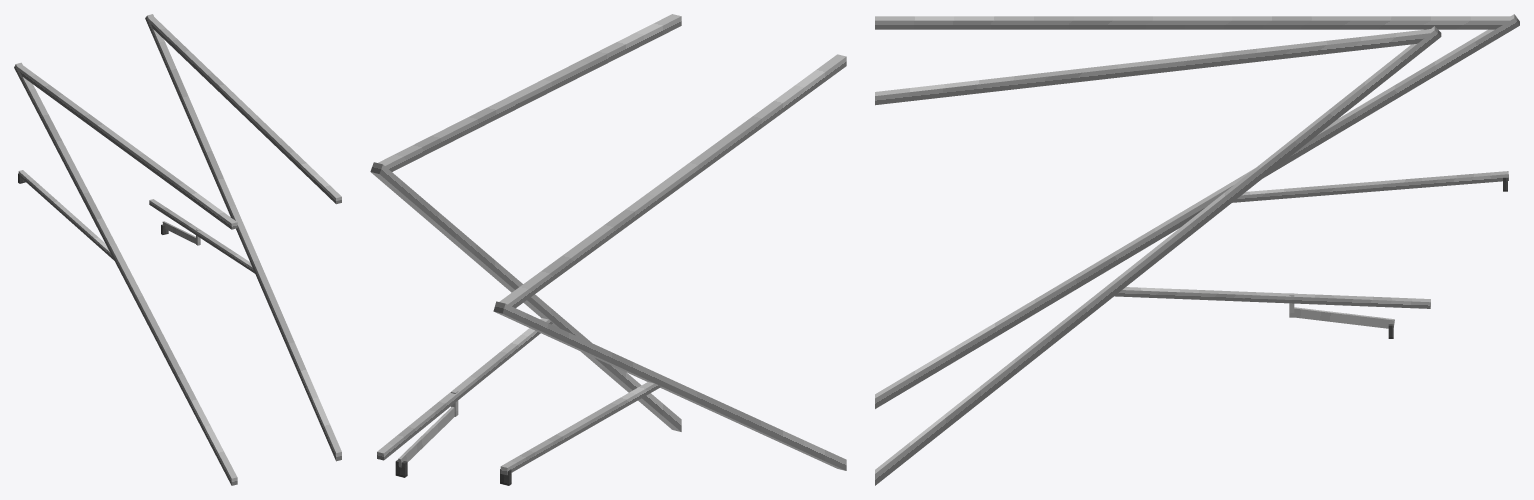
The model's file is cantilever_inner_16px.obj.
3 views of the same model, side by side, from view 1: azimuth 30°, elevation 25°; view 2: azimuth 150°, elevation 25°; view 3: azimuth 270°, elevation 25° (orthographic). The views are drawn at different scales.
Visible parts, largest first — view 1: 206ac0c6-6263-463d-b8c8-4edccb126848, 45a233ab-9f93-4357-8e84-06977c4af076, 9b11926d-dfa5-46ca-9d70-1caffae82cbf, c26e9007-1f47-4307-81c3-4fd5e3c32bb0, c3a7b2e0-1084-4a42-8575-a21ec13c043e, b7889ffc-b2b1-4761-a7f5-853b03a88297; view 2: 9b11926d-dfa5-46ca-9d70-1caffae82cbf, c26e9007-1f47-4307-81c3-4fd5e3c32bb0, 45a233ab-9f93-4357-8e84-06977c4af076, 206ac0c6-6263-463d-b8c8-4edccb126848, c3a7b2e0-1084-4a42-8575-a21ec13c043e, b7889ffc-b2b1-4761-a7f5-853b03a88297, 2d00df04-6c2a-4683-be8d-b0d0081bbdd5; view 3: 206ac0c6-6263-463d-b8c8-4edccb126848, 9b11926d-dfa5-46ca-9d70-1caffae82cbf, 45a233ab-9f93-4357-8e84-06977c4af076, c26e9007-1f47-4307-81c3-4fd5e3c32bb0, c3a7b2e0-1084-4a42-8575-a21ec13c043e, b7889ffc-b2b1-4761-a7f5-853b03a88297, 2d00df04-6c2a-4683-be8d-b0d0081bbdd5.
Boxes of the visible parts, x1=… form: 206ac0c6-6263-463d-b8c8-4edccb126848: x1=145, y1=14, x2=341, y2=461; 45a233ab-9f93-4357-8e84-06977c4af076: x1=14, y1=62, x2=237, y2=485; 9b11926d-dfa5-46ca-9d70-1caffae82cbf: x1=17, y1=65, x2=237, y2=229; c26e9007-1f47-4307-81c3-4fd5e3c32bb0: x1=148, y1=17, x2=341, y2=204; c3a7b2e0-1084-4a42-8575-a21ec13c043e: x1=149, y1=199, x2=254, y2=273; b7889ffc-b2b1-4761-a7f5-853b03a88297: x1=18, y1=170, x2=114, y2=260; 9b11926d-dfa5-46ca-9d70-1caffae82cbf: x1=499, y1=54, x2=846, y2=307; c26e9007-1f47-4307-81c3-4fd5e3c32bb0: x1=378, y1=14, x2=681, y2=171; 45a233ab-9f93-4357-8e84-06977c4af076: x1=493, y1=301, x2=846, y2=470; 206ac0c6-6263-463d-b8c8-4edccb126848: x1=370, y1=162, x2=681, y2=431; c3a7b2e0-1084-4a42-8575-a21ec13c043e: x1=377, y1=318, x2=552, y2=460; b7889ffc-b2b1-4761-a7f5-853b03a88297: x1=500, y1=382, x2=661, y2=475; 2d00df04-6c2a-4683-be8d-b0d0081bbdd5: x1=398, y1=407, x2=454, y2=467; 206ac0c6-6263-463d-b8c8-4edccb126848: x1=875, y1=26, x2=1441, y2=485; 9b11926d-dfa5-46ca-9d70-1caffae82cbf: x1=875, y1=16, x2=1510, y2=29; 45a233ab-9f93-4357-8e84-06977c4af076: x1=875, y1=14, x2=1519, y2=408; c26e9007-1f47-4307-81c3-4fd5e3c32bb0: x1=875, y1=29, x2=1430, y2=105; c3a7b2e0-1084-4a42-8575-a21ec13c043e: x1=1114, y1=287, x2=1430, y2=308; b7889ffc-b2b1-4761-a7f5-853b03a88297: x1=1232, y1=171, x2=1508, y2=202; 2d00df04-6c2a-4683-be8d-b0d0081bbdd5: x1=1294, y1=307, x2=1394, y2=328.
Size of the model in its own units: 1.19 by 3.17 by 4.06.
